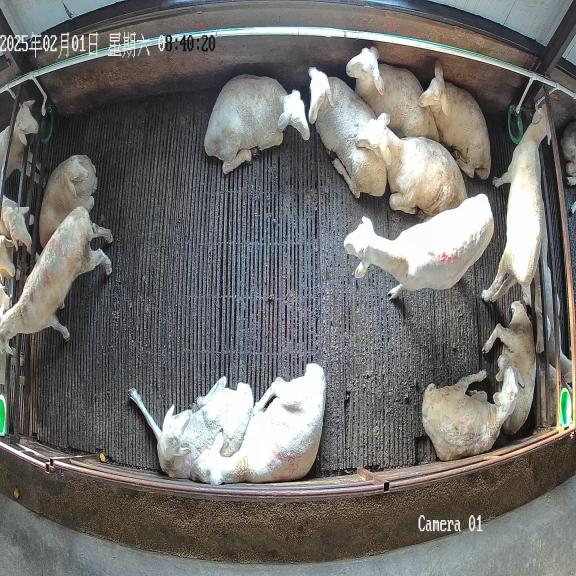lying: (189, 363, 326, 485), (130, 376, 254, 478), (356, 114, 467, 218), (204, 74, 309, 174), (309, 68, 387, 197), (422, 366, 518, 461), (346, 47, 440, 142), (419, 61, 491, 179), (482, 301, 536, 434), (39, 155, 97, 247)
stand: (0, 206, 112, 354), (343, 194, 494, 299), (482, 112, 551, 305)
